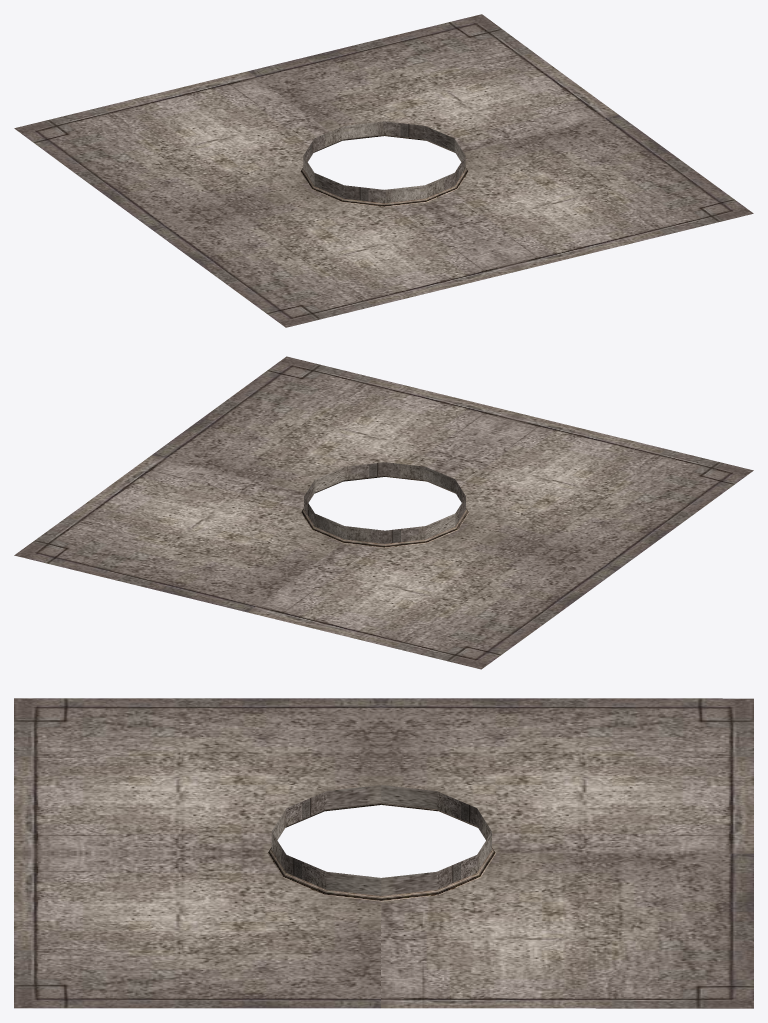
Rendered from der01.obj.
3 renders of one model, top to bottom at view 1: azimuth 30°, elevation 25°; view 2: azimuth 150°, elevation 25°; view 3: azimuth 270°, elevation 25°, orthographic. The views are drawn at different scales.
Parts seen in each view (by area): view 1: der01; view 2: der01; view 3: der01.
Part boxes in pixels (box(x1,y1,x2,y2)): der01: box(14, 14, 753, 327); der01: box(14, 356, 753, 669); der01: box(14, 698, 753, 1008).
Size of the model in its own units: 1001 by 32.82 by 1008.
